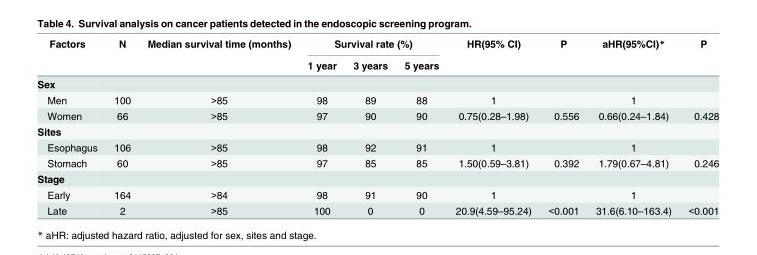table: (36, 37, 718, 215)
table column: (138, 37, 298, 215), (446, 37, 539, 215), (586, 37, 679, 215), (36, 37, 105, 215), (344, 37, 395, 215), (395, 37, 446, 215), (539, 37, 586, 215), (298, 37, 344, 215), (679, 37, 718, 215), (105, 37, 138, 215)
table column header: (36, 37, 718, 74)
table projected row header: (36, 74, 718, 91), (36, 123, 718, 139), (36, 170, 718, 186)
table row: (36, 53, 718, 74), (36, 74, 718, 91), (36, 37, 718, 53), (36, 91, 718, 107), (36, 107, 718, 123), (36, 123, 718, 139), (36, 154, 718, 170), (36, 170, 718, 186), (36, 186, 718, 202), (36, 139, 718, 154), (36, 202, 718, 215)
table spanning cell: (138, 37, 298, 74), (446, 37, 539, 74), (586, 37, 679, 74), (36, 37, 105, 74), (298, 37, 446, 53), (539, 37, 586, 74), (679, 37, 718, 74), (105, 37, 138, 74)
